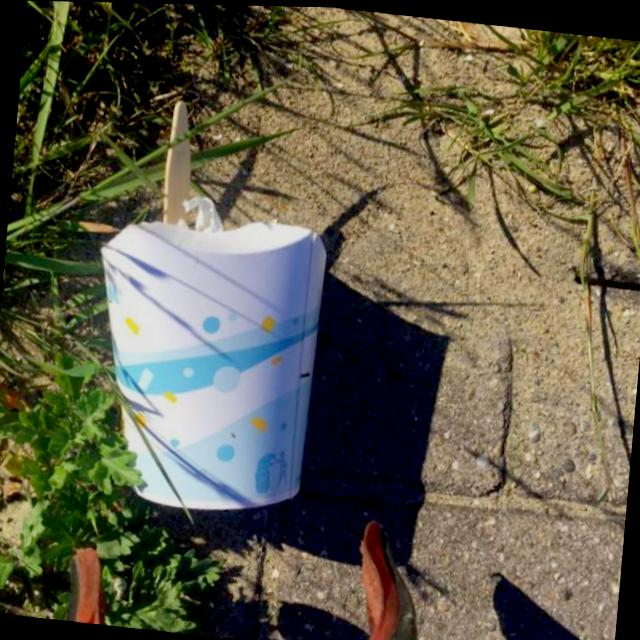Paper: (78, 199, 334, 526)
